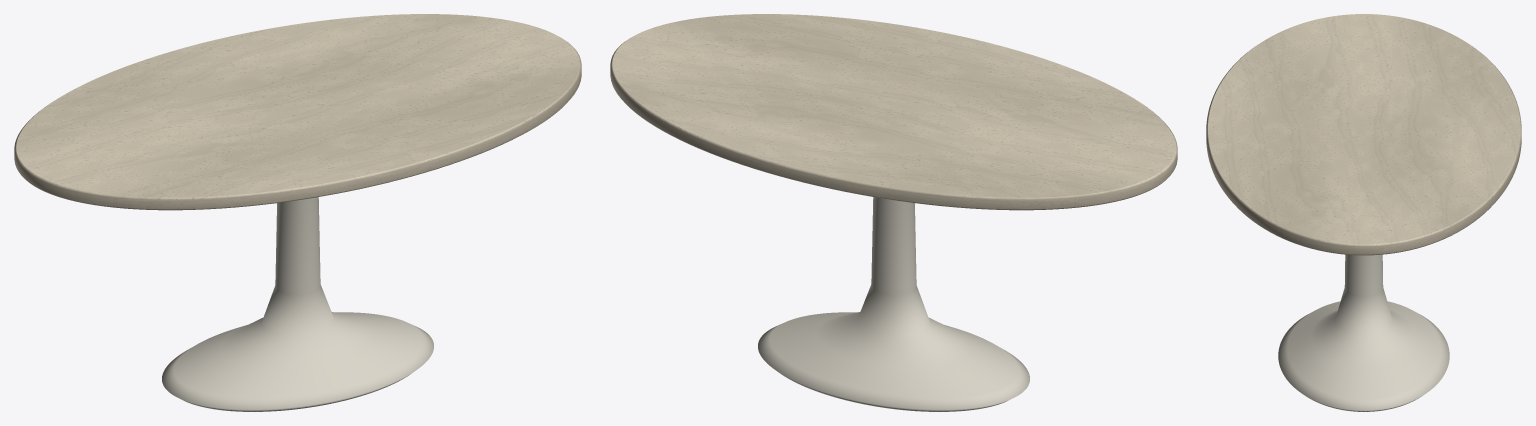
3 views of the same model, side by side, from view 1: azimuth 30°, elevation 25°; view 2: azimuth 150°, elevation 25°; view 3: azimuth 270°, elevation 25° (orthographic). The views are drawn at different scales.
Parts seen in each view (by area): view 1: Oval marble dining slab, Continuous warm-white tulip pedestal; view 2: Oval marble dining slab, Continuous warm-white tulip pedestal; view 3: Oval marble dining slab, Continuous warm-white tulip pedestal.
Boxes of the visible parts, x1,y1,x2,y2 form: Oval marble dining slab: (14, 14, 581, 210); Continuous warm-white tulip pedestal: (162, 197, 433, 411); Oval marble dining slab: (610, 14, 1177, 210); Continuous warm-white tulip pedestal: (758, 197, 1029, 411); Oval marble dining slab: (1206, 14, 1521, 255); Continuous warm-white tulip pedestal: (1278, 254, 1449, 411).
Size of the model in its own units: 1.6 by 0.75 by 0.92.
Materials: 4 (1 with a texture image).
